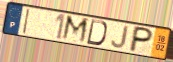1: (54, 13, 67, 41)
D: (85, 19, 108, 47)
I: (21, 7, 31, 35)
J: (110, 25, 130, 49)
M: (60, 14, 91, 46)
P: (127, 25, 155, 53)
